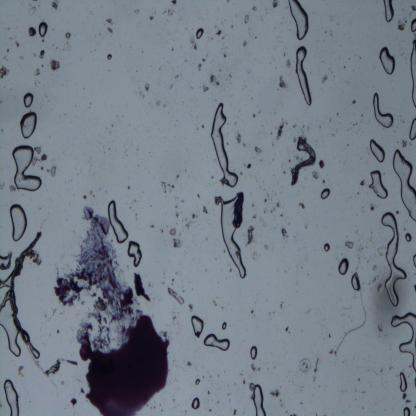Air bubble: (379, 210, 408, 308), (210, 100, 239, 188), (219, 197, 247, 280), (391, 311, 416, 386), (394, 150, 416, 220), (11, 144, 43, 192), (0, 298, 22, 359), (293, 44, 312, 106), (106, 198, 130, 244), (287, 0, 310, 40), (372, 92, 394, 129), (8, 204, 28, 241), (4, 376, 21, 416), (407, 37, 416, 111), (369, 168, 389, 199), (378, 46, 398, 76), (20, 110, 38, 139), (204, 332, 230, 352), (252, 383, 266, 416), (369, 137, 386, 164), (128, 239, 142, 267), (190, 315, 204, 338), (383, 0, 395, 23), (0, 251, 13, 271), (337, 258, 349, 276), (23, 91, 34, 109), (350, 273, 360, 292), (399, 371, 407, 394), (409, 118, 416, 141), (38, 21, 48, 37), (320, 186, 330, 200), (249, 344, 258, 359), (192, 397, 202, 410), (404, 231, 414, 243), (409, 19, 416, 32), (196, 28, 204, 39), (402, 406, 411, 415), (220, 322, 228, 332), (194, 378, 202, 386), (324, 242, 330, 252), (413, 253, 416, 269), (108, 54, 112, 60)
Background material: (168, 286, 185, 306), (56, 355, 79, 369), (274, 118, 286, 142), (354, 243, 364, 271), (48, 358, 62, 377), (186, 212, 197, 231), (171, 235, 185, 249), (299, 358, 312, 373), (161, 182, 176, 194), (0, 65, 11, 80), (50, 58, 61, 72), (397, 16, 407, 31), (173, 204, 182, 220), (247, 225, 254, 245), (234, 132, 244, 146), (162, 8, 176, 18), (313, 356, 321, 373), (278, 73, 287, 88), (210, 74, 219, 89), (250, 361, 261, 373), (249, 251, 261, 261), (50, 0, 60, 12), (376, 245, 386, 257), (280, 229, 289, 242), (47, 166, 58, 176), (271, 202, 280, 214), (28, 4, 37, 16), (16, 366, 25, 378), (345, 238, 354, 250), (400, 140, 413, 148), (144, 80, 151, 94), (269, 388, 281, 396), (248, 380, 256, 392), (376, 322, 384, 334), (264, 192, 272, 204), (38, 49, 46, 60), (28, 26, 36, 37), (32, 155, 39, 167), (376, 284, 384, 294), (370, 274, 378, 284), (65, 31, 73, 41), (69, 398, 79, 406), (159, 330, 168, 338), (34, 145, 42, 154), (168, 228, 177, 236), (106, 17, 115, 25), (202, 204, 209, 214), (155, 98, 162, 108), (255, 146, 263, 154), (359, 178, 366, 187), (174, 74, 184, 80), (279, 399, 285, 409), (286, 58, 292, 68), (244, 14, 250, 24), (216, 28, 223, 36), (34, 68, 41, 76), (246, 163, 254, 170), (149, 14, 156, 22), (271, 0, 278, 8), (322, 74, 328, 83), (82, 193, 88, 202), (280, 301, 286, 310), (0, 181, 6, 190), (313, 171, 319, 180), (319, 160, 324, 170), (189, 302, 194, 312), (9, 185, 16, 192), (370, 202, 376, 210), (300, 202, 306, 210), (108, 28, 114, 36), (191, 34, 196, 43), (411, 3, 416, 12), (201, 57, 208, 63), (372, 264, 378, 271), (252, 212, 258, 219), (212, 300, 218, 307), (186, 361, 193, 367), (78, 388, 85, 394), (41, 154, 48, 160), (330, 349, 336, 356), (240, 370, 247, 376), (389, 364, 395, 371), (202, 86, 209, 92), (329, 30, 334, 38), (16, 39, 20, 49), (207, 388, 212, 396), (133, 9, 141, 14), (198, 64, 203, 72), (286, 325, 290, 334), (307, 308, 313, 314), (171, 0, 178, 5), (197, 192, 202, 199), (169, 83, 174, 90), (289, 412, 297, 416), (174, 314, 178, 322), (56, 328, 60, 336), (176, 172, 180, 180), (232, 408, 236, 416), (322, 178, 327, 184), (192, 43, 197, 49), (150, 223, 155, 229), (230, 24, 235, 30), (126, 185, 131, 191), (252, 6, 258, 11), (224, 52, 228, 59), (313, 375, 317, 382), (6, 48, 11, 53), (250, 309, 255, 314), (171, 46, 175, 52), (226, 392, 232, 396), (242, 378, 246, 384), (180, 198, 184, 204), (202, 374, 206, 380), (328, 333, 332, 339), (242, 42, 248, 46), (268, 311, 272, 316), (264, 245, 268, 250), (352, 100, 357, 104), (252, 113, 256, 118), (396, 210, 400, 215), (172, 398, 176, 403), (183, 410, 187, 415), (208, 408, 212, 413), (352, 123, 358, 126), (202, 123, 205, 129), (360, 114, 364, 118), (336, 112, 340, 116), (209, 374, 213, 378), (356, 192, 360, 196), (240, 171, 243, 176), (183, 60, 190, 62), (343, 65, 346, 69), (358, 378, 361, 382), (283, 171, 286, 175), (222, 36, 226, 39), (216, 401, 220, 404), (252, 204, 255, 208), (218, 374, 221, 378), (300, 266, 303, 270), (308, 272, 310, 277), (332, 134, 335, 137), (325, 31, 328, 34), (347, 144, 350, 147), (300, 402, 304, 404), (359, 57, 362, 59), (410, 366, 411, 368)
Cellulose filter fibre: (11, 230, 76, 371), (335, 280, 372, 350), (288, 134, 317, 186)
Cotton: (231, 192, 246, 230)
Pen: (48, 205, 172, 415)
